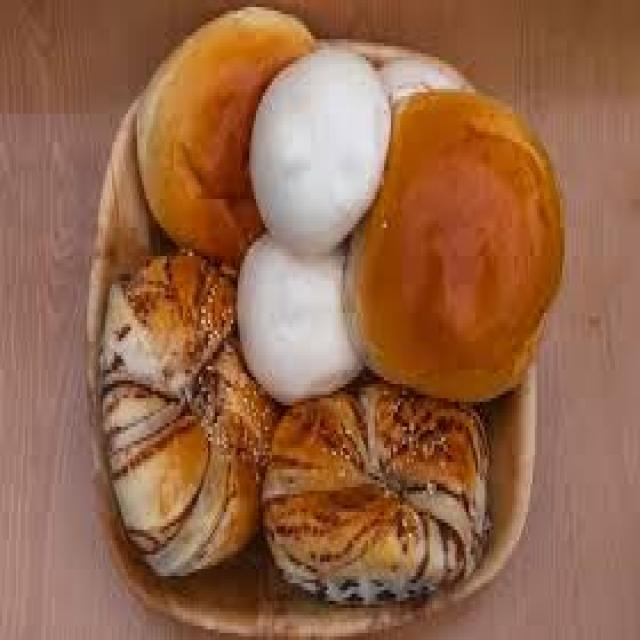food_waste: (101, 7, 560, 597)
